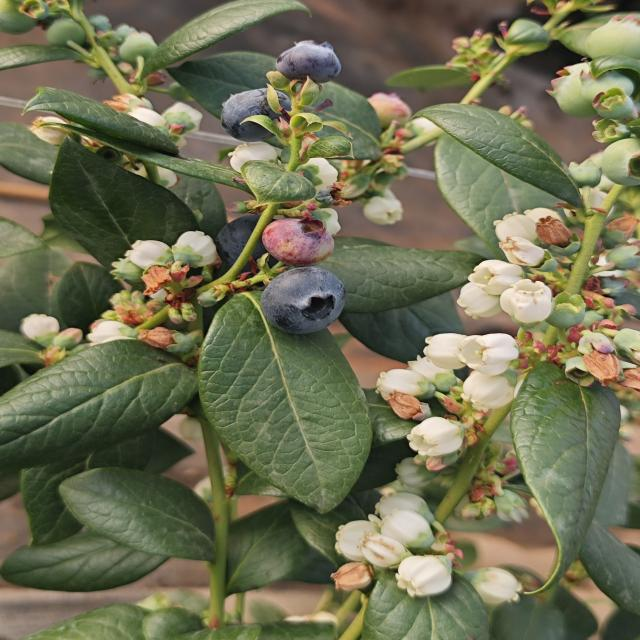ripe: (257, 264, 349, 336), (212, 213, 296, 267), (218, 86, 294, 144), (273, 39, 344, 86)
